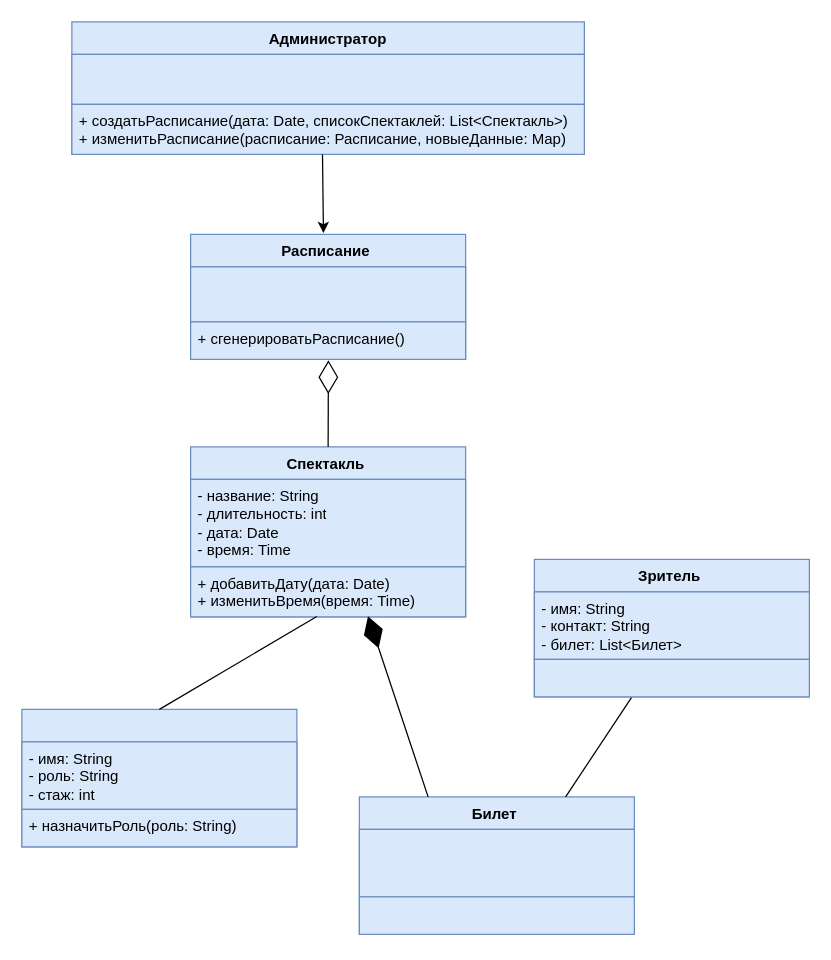
This 831x960 diagram has some shape labels left out. The shapes that lost their labels are listed below. From the top down, each one's box as (x1, y1, x2, y2) in pixels, then its label:
(71, 53, 584, 104): - логин: String - пароль: String
(189, 266, 466, 322): - дата: Date - списокСпектаклей: List<Спектакль>
(533, 658, 809, 697): + купитьБилет(спектакль: Спектакль)
(21, 708, 297, 847): Актёр
(358, 828, 634, 897): - номер: int - цена: float - статус: String
(358, 896, 634, 934): + проверитьСтатус(): String
